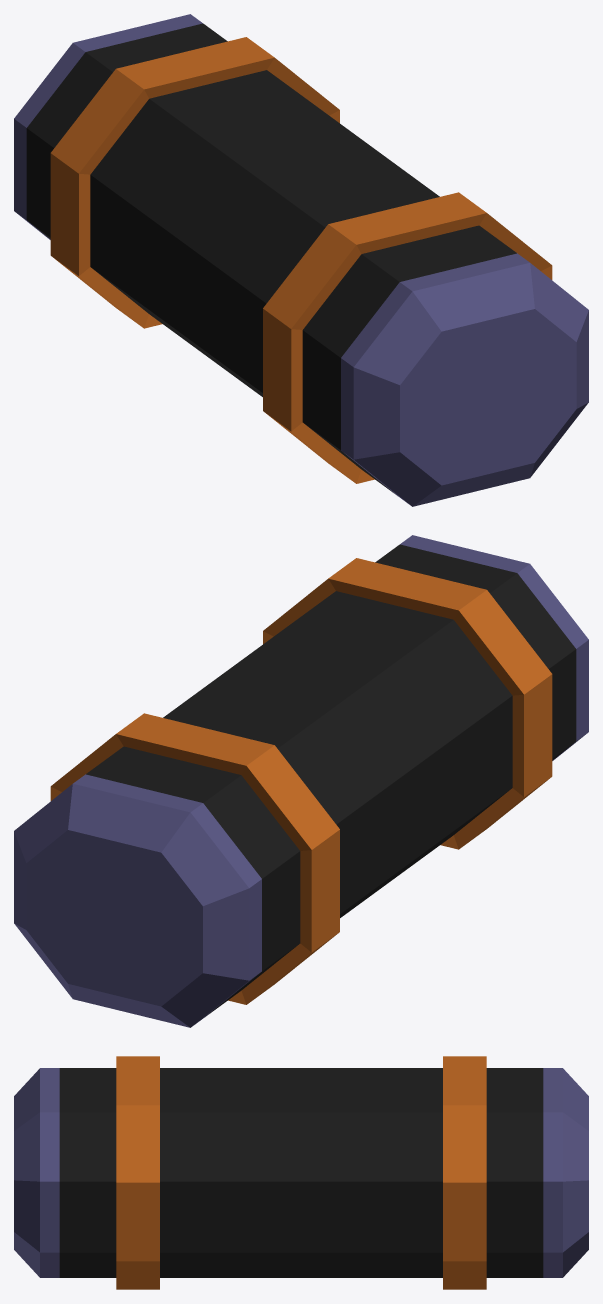
The model's file is Closed Container 1.fbx.
3 views of the same model, one above another, from view 1: azimuth 30°, elevation 25°; view 2: azimuth 150°, elevation 25°; view 3: azimuth 270°, elevation 25° (orthographic). The views are drawn at different scales.
Parts seen in each view (by area): view 1: Closed Container 1; view 2: Closed Container 1; view 3: Closed Container 1.
Part boxes in pixels (<box>): Closed Container 1: <box>14,14,588,506</box>; Closed Container 1: <box>14,535,588,1027</box>; Closed Container 1: <box>14,1056,588,1289</box>.
Bounding box in the file's own units: 888 × 777 × 2200.
